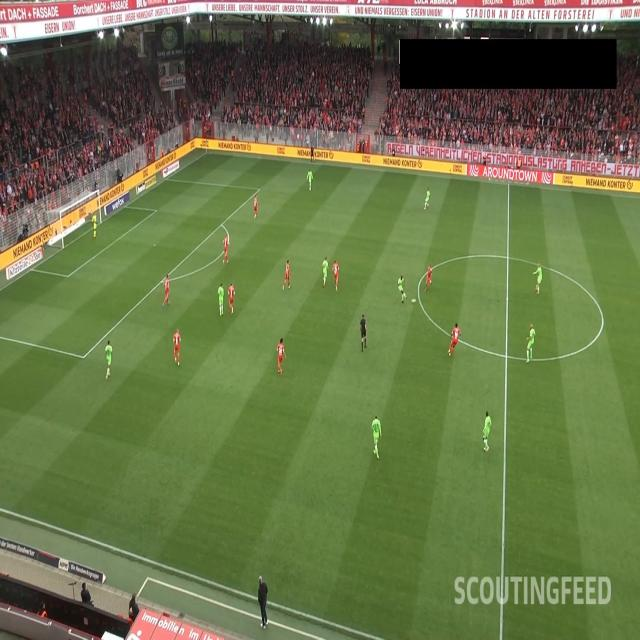ball: (411, 298, 416, 304)
